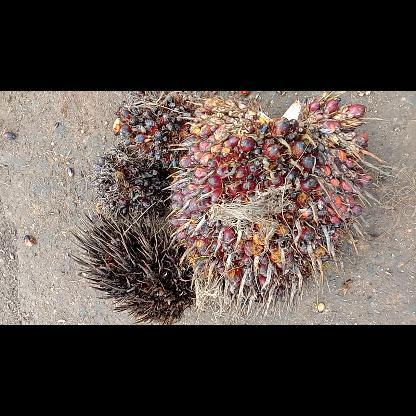Janjang kosong: (64, 204, 196, 324)
TBS abnormal: (90, 146, 172, 226), (115, 91, 196, 171)
TBS masak: (165, 94, 371, 320)
